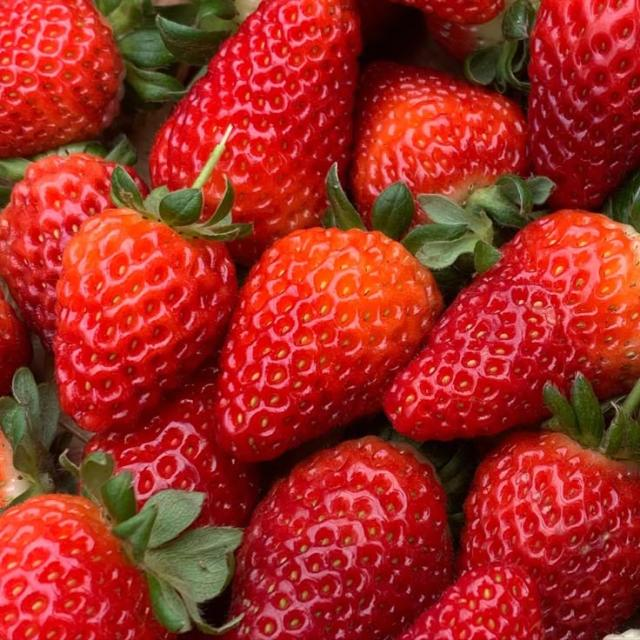strawberry: (385, 210, 639, 439), (151, 0, 360, 262), (216, 228, 442, 460), (54, 168, 248, 431), (460, 379, 639, 639), (227, 437, 452, 639), (0, 454, 241, 639), (54, 209, 236, 431), (0, 0, 235, 157), (86, 367, 259, 526), (351, 62, 527, 217), (0, 495, 176, 639), (528, 0, 639, 208), (0, 154, 116, 350), (0, 0, 124, 157), (399, 564, 544, 639), (426, 13, 504, 61), (0, 289, 32, 395), (394, 0, 505, 24), (0, 432, 27, 511)
